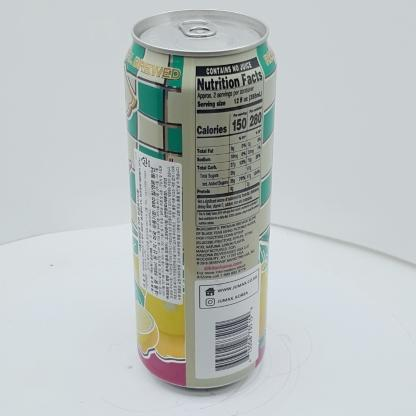-------------------680ML: (123, 9, 277, 388)
